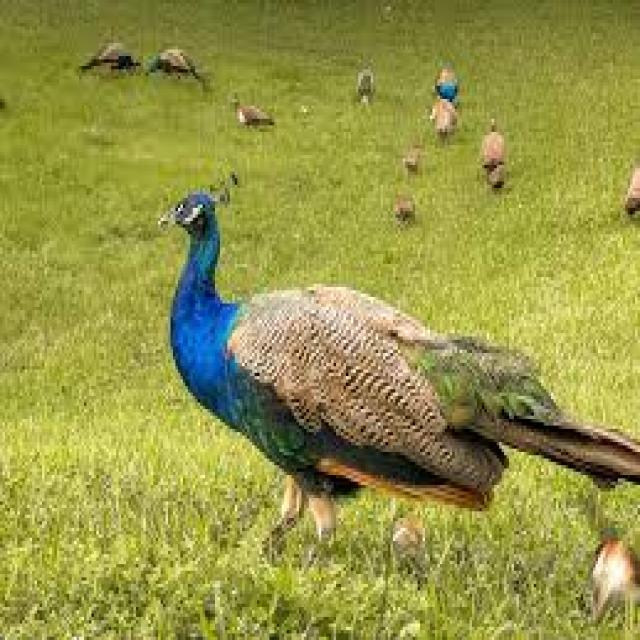peacock: (160, 173, 386, 467)
